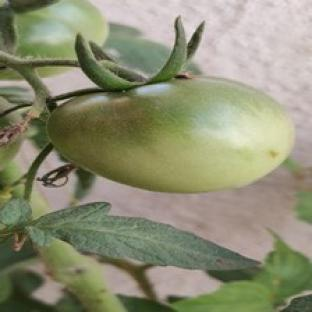Tomato: (48, 78, 293, 192), (0, 140, 20, 169)
